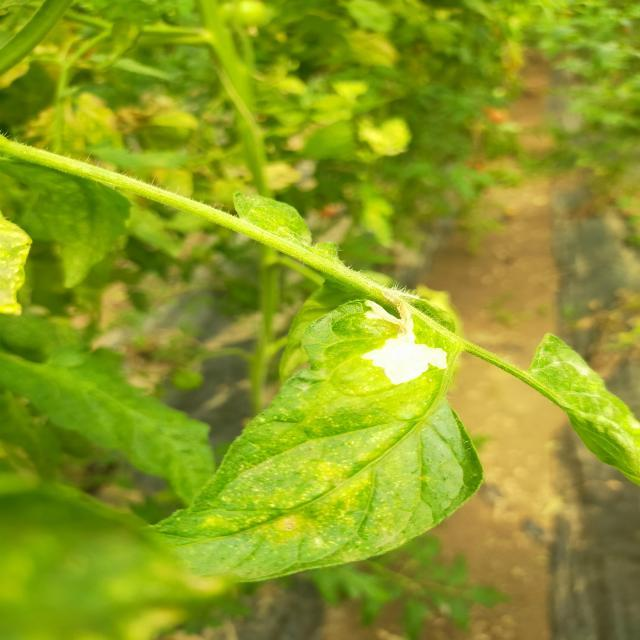Tuta absoluta: (336, 291, 465, 407)
